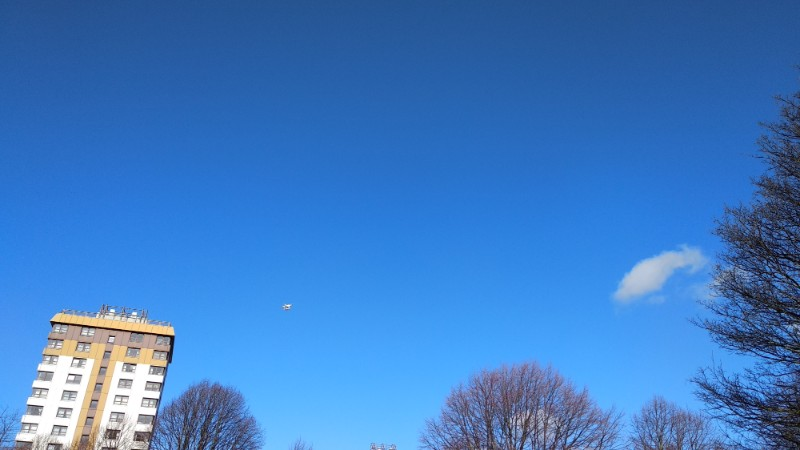drone: (280, 302, 293, 311)
